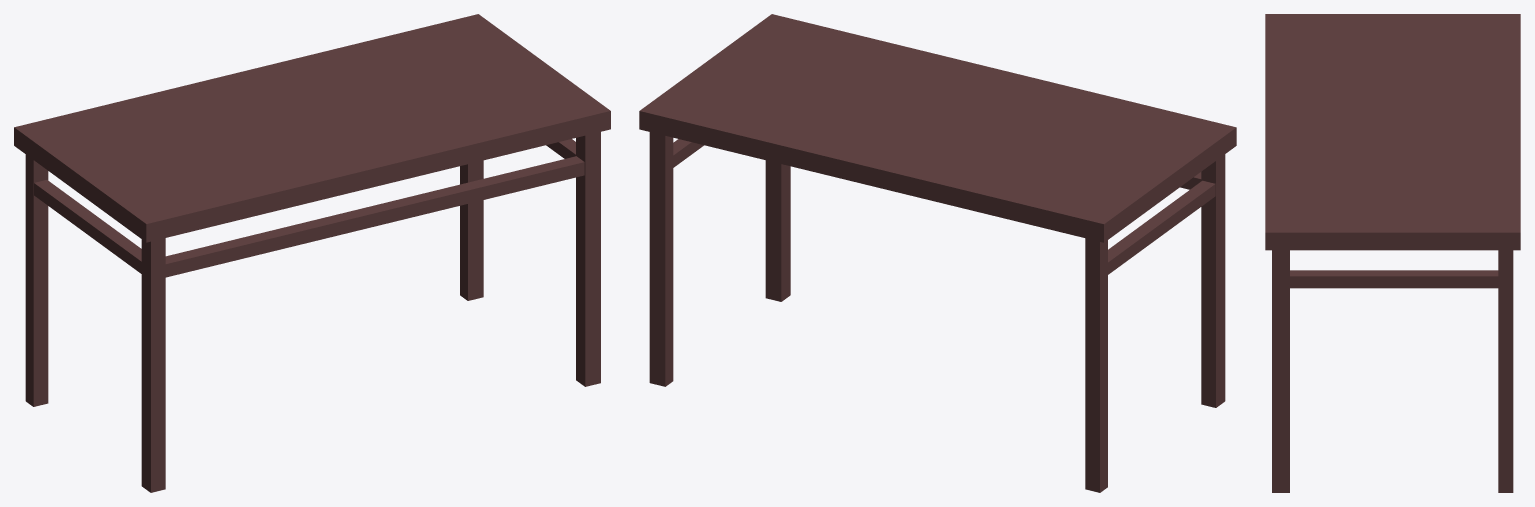
File: table3.obj
3 views of the same model, side by side, from view 1: azimuth 30°, elevation 25°; view 2: azimuth 150°, elevation 25°; view 3: azimuth 270°, elevation 25° (orthographic). The views are drawn at different scales.
Visible parts, largest first — view 1: table3; view 2: table3; view 3: table3.
Boxes of the visible parts, x1=… form: table3: x1=14, y1=14, x2=610, y2=492; table3: x1=639, y1=14, x2=1236, y2=492; table3: x1=1265, y1=14, x2=1520, y2=492.
Bounding box in the file's own units: 1.28 × 0.7203 × 0.6325.
